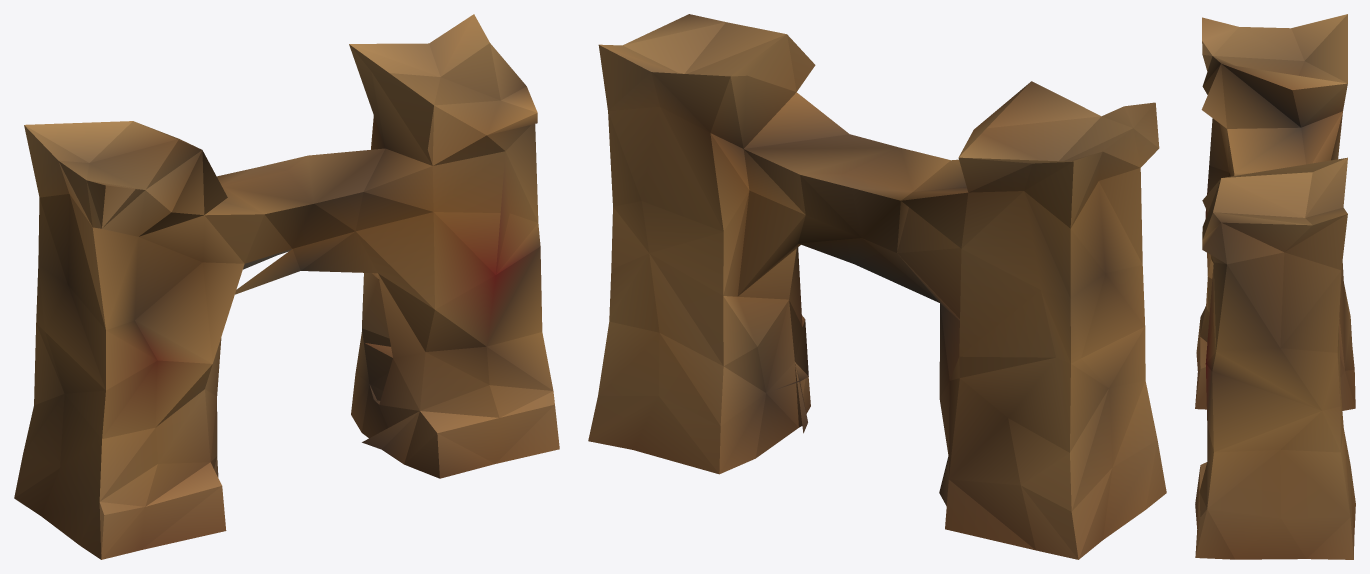
The model's file is fortress-gate.glb.
The picture shows the model from 3 angles, left to right: view 1: azimuth 30°, elevation 25°; view 2: azimuth 150°, elevation 25°; view 3: azimuth 270°, elevation 25°; orthographic projection. The views are drawn at different scales.
Parts seen in each view (by area): view 1: fortress-gate-far; view 2: fortress-gate-far; view 3: fortress-gate-far.
Part boxes in pixels (bbox=[...]): fortress-gate-far: bbox=[14, 14, 559, 559]; fortress-gate-far: bbox=[588, 14, 1166, 559]; fortress-gate-far: bbox=[1195, 14, 1355, 559].
Size of the model in its own units: 17.94 by 13.87 by 5.89.
